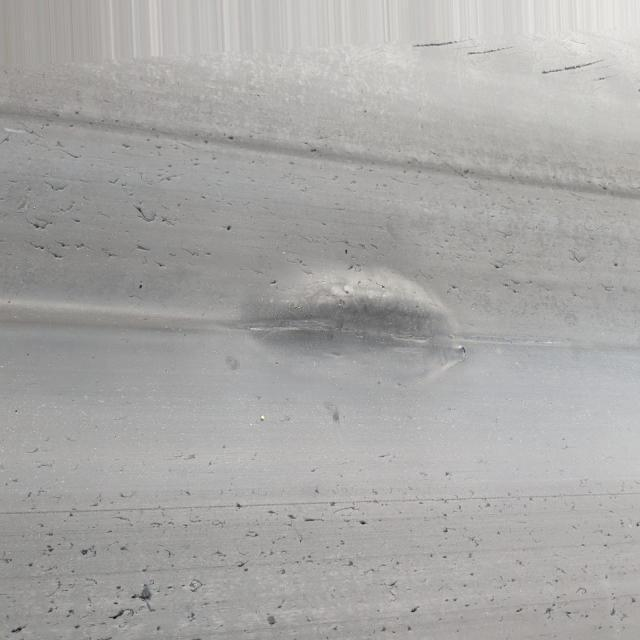Impact Damage: (236, 259, 475, 384)
Puncture: (101, 602, 128, 624), (130, 202, 150, 222), (75, 544, 94, 560), (8, 621, 24, 635), (30, 220, 46, 234), (406, 603, 422, 615), (358, 516, 371, 530), (51, 250, 66, 262), (64, 606, 77, 618), (267, 277, 280, 288), (224, 134, 237, 144), (235, 560, 248, 570), (439, 525, 452, 535), (490, 262, 503, 272), (266, 507, 278, 517), (608, 606, 618, 618), (223, 224, 234, 234), (611, 260, 620, 272), (515, 606, 525, 616), (136, 281, 145, 292), (25, 560, 36, 569), (230, 502, 243, 509), (308, 146, 318, 155), (46, 606, 54, 616), (340, 248, 350, 255), (444, 470, 452, 478), (406, 624, 414, 632)
